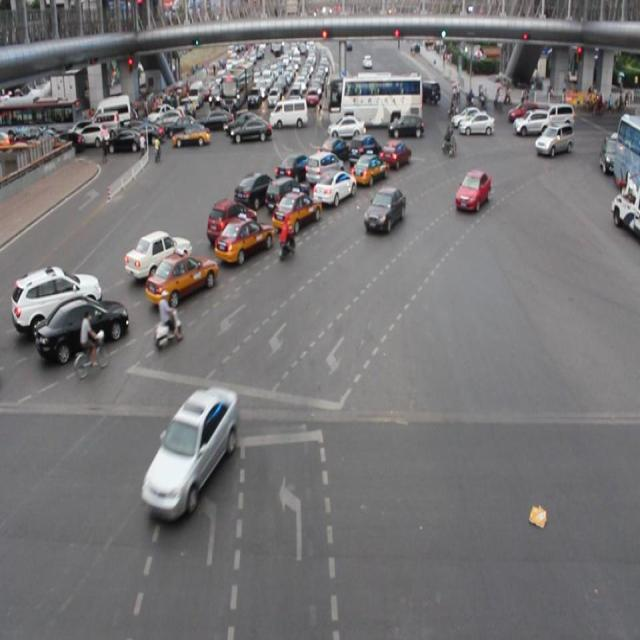car: (148, 392, 234, 511), (12, 268, 100, 331), (37, 296, 128, 353), (145, 252, 216, 301), (126, 230, 191, 276), (214, 217, 272, 259), (205, 199, 256, 241), (274, 188, 320, 234), (363, 186, 404, 234), (266, 176, 309, 217), (235, 172, 278, 210), (454, 170, 491, 213), (313, 170, 354, 206), (534, 122, 573, 157), (351, 152, 387, 188), (306, 152, 344, 186), (276, 154, 312, 186), (348, 135, 381, 167), (381, 138, 410, 170), (319, 137, 348, 164)
